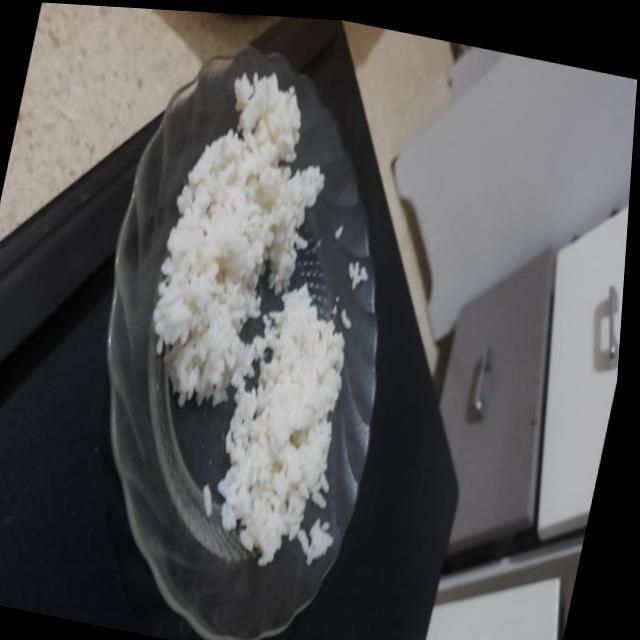nasi_putih: (153, 72, 324, 406), (218, 284, 344, 566)
